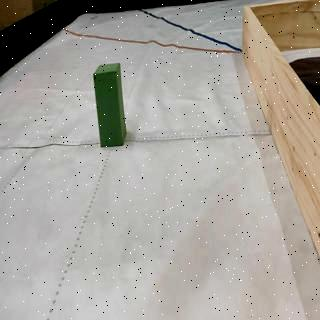greenbox: (94, 66, 125, 148)
